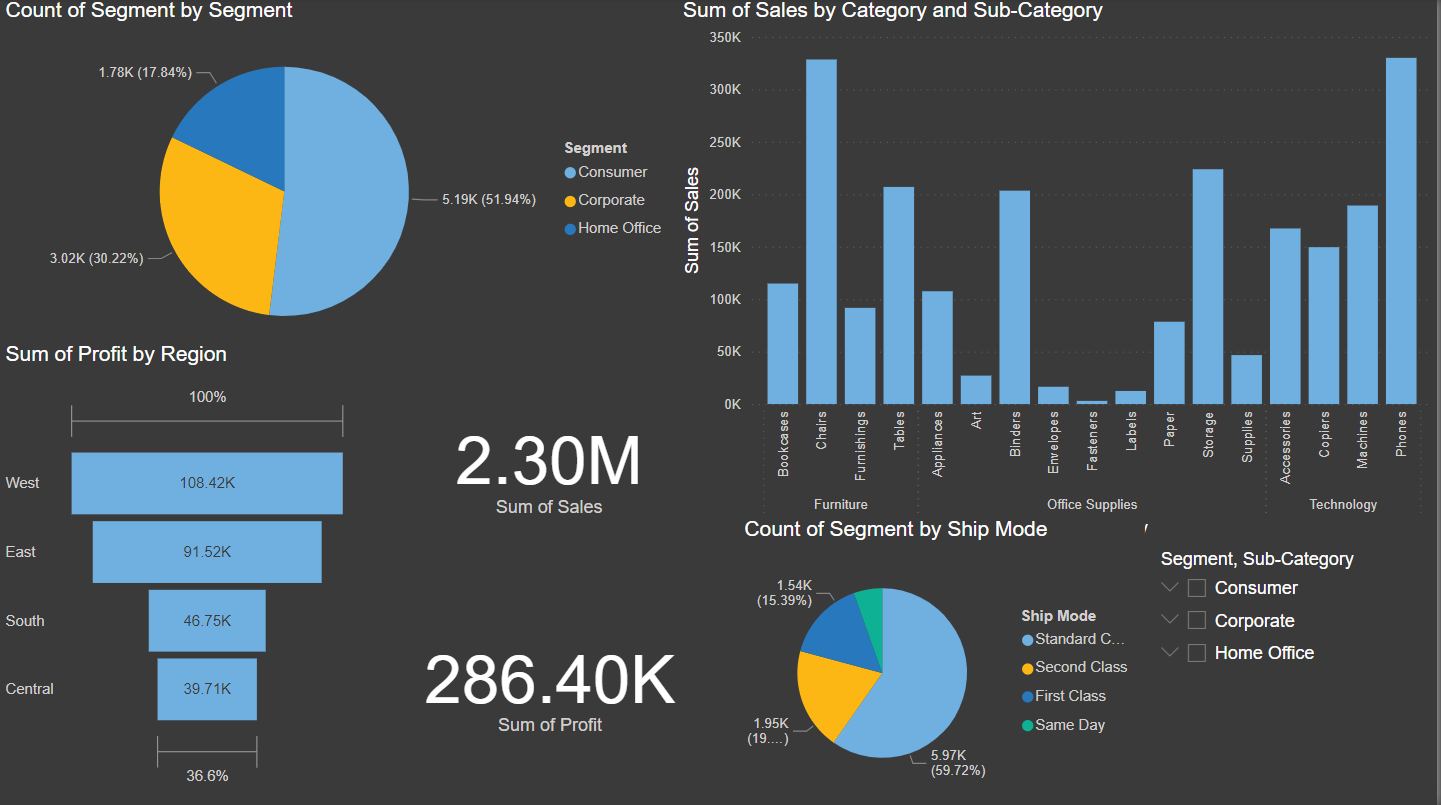

What the dashboard file says about the page in this screenshot:
{"tool":"powerbi","page":{"name":"Page 1","canvas":[1280,720],"ordinal":0},"visuals":[{"type":"pieChart","fields":{"Category":["Orders1.Segment"],"Y":["CountNonNull(Orders1.Segment)"]},"box":[0,0,602.6,323.9],"z":0},{"type":"card","fields":{"Values":["Sum(Orders1.Sales)"]},"box":[353.3,305.6,272.6,220],"z":1000},{"type":"columnChart","fields":{"Y":["Sum(Orders1.Sales)"],"Category":["Orders1.Category","Orders1.Sub-Category"]},"box":[602.6,0,677.2,485.3],"z":2000},{"type":"funnel","fields":{"Y":["Sum(Orders1.Profit)"],"Category":["Orders1.Region"]},"box":[0,305.6,315.4,414.4],"z":3000},{"type":"pieChart","fields":{"Category":["Orders1.Ship Mode"],"Y":["CountNonNull(Orders1.Segment)"]},"box":[657.7,462.1,361.8,257.9],"z":3001},{"type":"card","fields":{"Values":["Sum(Orders1.Profit)"]},"box":[368,501,243,219],"z":3002},{"type":"slicer","fields":{"Values":["Orders1.Segment","Orders1.Sub-Category"]},"box":[1020,485,260,235],"z":3003}]}

Visuals, with their boxes in screenshot pixels (x1, y1, x2, y2), scaled from the page's 1280x720 canvas onto the 1441x805 screenshot:
pieChart - Orders1.Segment x CountNonNull(Orders1.Segment): 0, 0, 678, 362
card - Sum(Orders1.Sales): 398, 342, 705, 588
columnChart - Sum(Orders1.Sales) x Orders1.Category: 678, 0, 1440, 543
funnel - Sum(Orders1.Profit) x Orders1.Region: 0, 342, 355, 804
pieChart - Orders1.Ship Mode x CountNonNull(Orders1.Segment): 740, 517, 1148, 804
card - Sum(Orders1.Profit): 414, 560, 688, 804
slicer - Orders1.Segment x Orders1.Sub-Category: 1148, 542, 1440, 804
